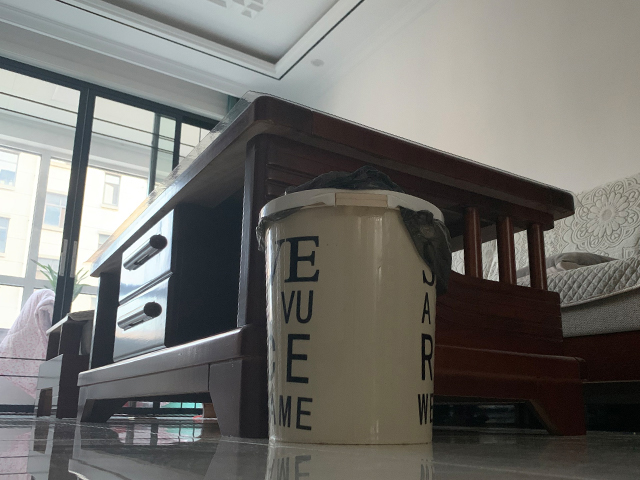table: (75, 95, 589, 440)
trashcan: (256, 188, 445, 446)
